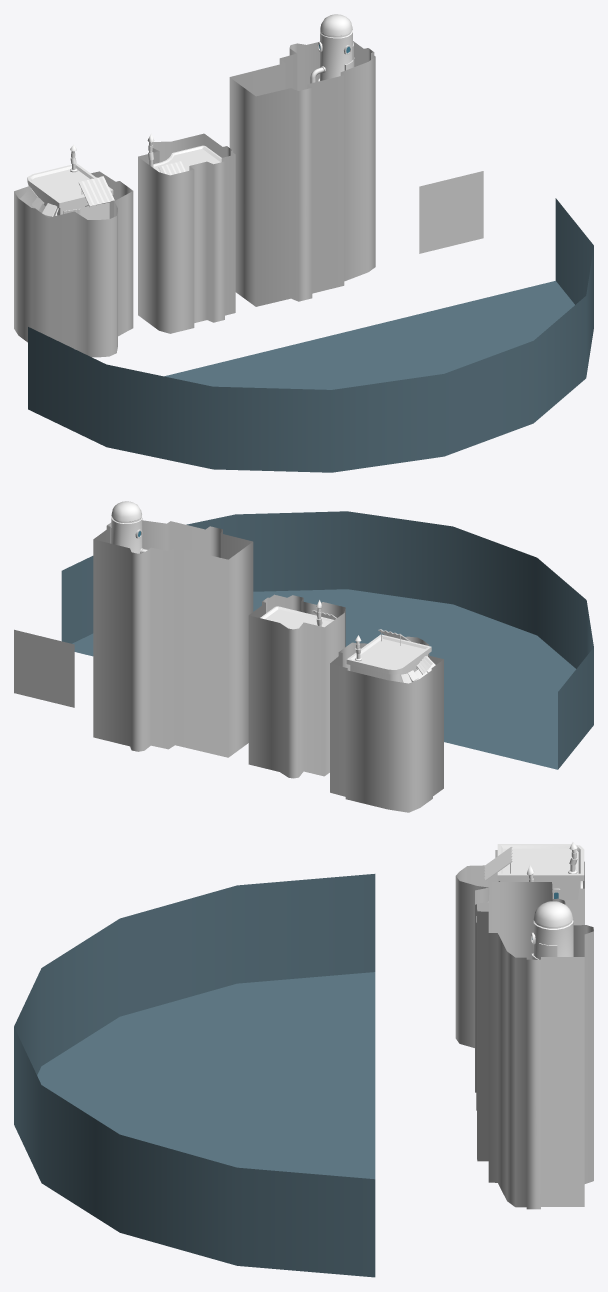
File: assets_t5_a4.fbx
3 renders of one model, top to bottom at view 1: azimuth 30°, elevation 25°; view 2: azimuth 150°, elevation 25°; view 3: azimuth 270°, elevation 25°, orthographic. The views are drawn at different scales.
Parts seen in each view (by area): view 1: ground_t5_era4, godray_3, godray_2, godray_1, Asset4, Asset2, Asset3, Asset1; view 2: ground_t5_era4, godray_3, godray_1, godray_2, Asset4, Asset2, Asset3, Asset1; view 3: ground_t5_era4, godray_3, godray_1, Asset2, Asset3, godray_2.
Part boxes in pixels (x1,y1,x2,y2): ground_t5_era4: [28, 198, 593, 472]; godray_3: [229, 41, 375, 306]; godray_2: [138, 133, 235, 333]; godray_1: [14, 171, 133, 357]; Asset4: [419, 171, 483, 253]; Asset2: [20, 144, 114, 219]; Asset3: [310, 14, 354, 83]; Asset1: [147, 133, 221, 175]; ground_t5_era4: [61, 511, 593, 769]; godray_3: [93, 520, 253, 757]; godray_1: [330, 636, 443, 812]; godray_2: [248, 594, 345, 778]; Asset4: [14, 629, 74, 707]; Asset2: [346, 629, 435, 683]; Asset3: [111, 501, 147, 553]; Asset1: [260, 600, 336, 629]; ground_t5_era4: [14, 874, 375, 1277]; godray_3: [477, 882, 593, 1209]; godray_1: [455, 850, 584, 1047]; Asset2: [484, 842, 584, 900]; Asset3: [531, 901, 573, 959]; godray_2: [475, 887, 565, 1110].
Size of the model in its own units: 162 by 71.54 by 130.
